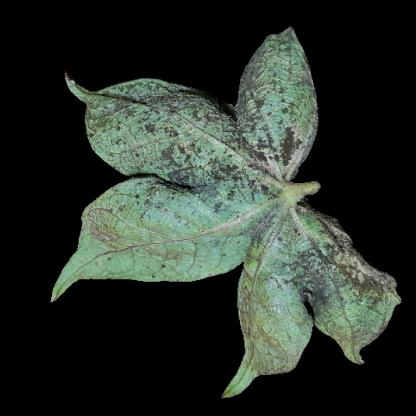curl_stage2: (239, 294, 301, 365), (127, 214, 191, 251), (80, 249, 146, 275)
sooty: (122, 90, 300, 204), (300, 241, 360, 333), (248, 213, 296, 265)
